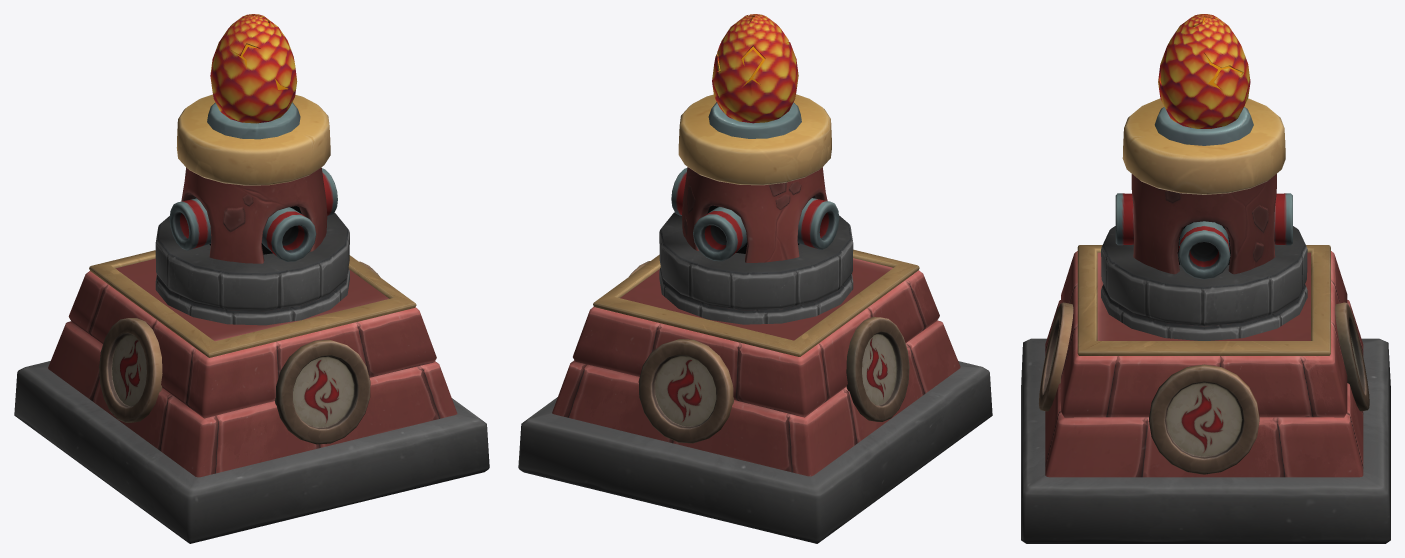
File: SM_TowerDefense_Fire_Lv2.fbx
The picture shows the model from 3 angles, left to right: view 1: azimuth 30°, elevation 25°; view 2: azimuth 150°, elevation 25°; view 3: azimuth 270°, elevation 25°; orthographic projection. The views are drawn at different scales.
Parts seen in each view (by area): view 1: SM_TowerDefense_Fire_Lv2; view 2: SM_TowerDefense_Fire_Lv2; view 3: SM_TowerDefense_Fire_Lv2.
Boxes of the visible parts, left/top/right/bottom form: SM_TowerDefense_Fire_Lv2: left=14, top=14, right=489, bottom=543; SM_TowerDefense_Fire_Lv2: left=518, top=14, right=992, bottom=543; SM_TowerDefense_Fire_Lv2: left=1021, top=14, right=1390, bottom=543.
Size of the model in its own units: 876 by 1187 by 879.
